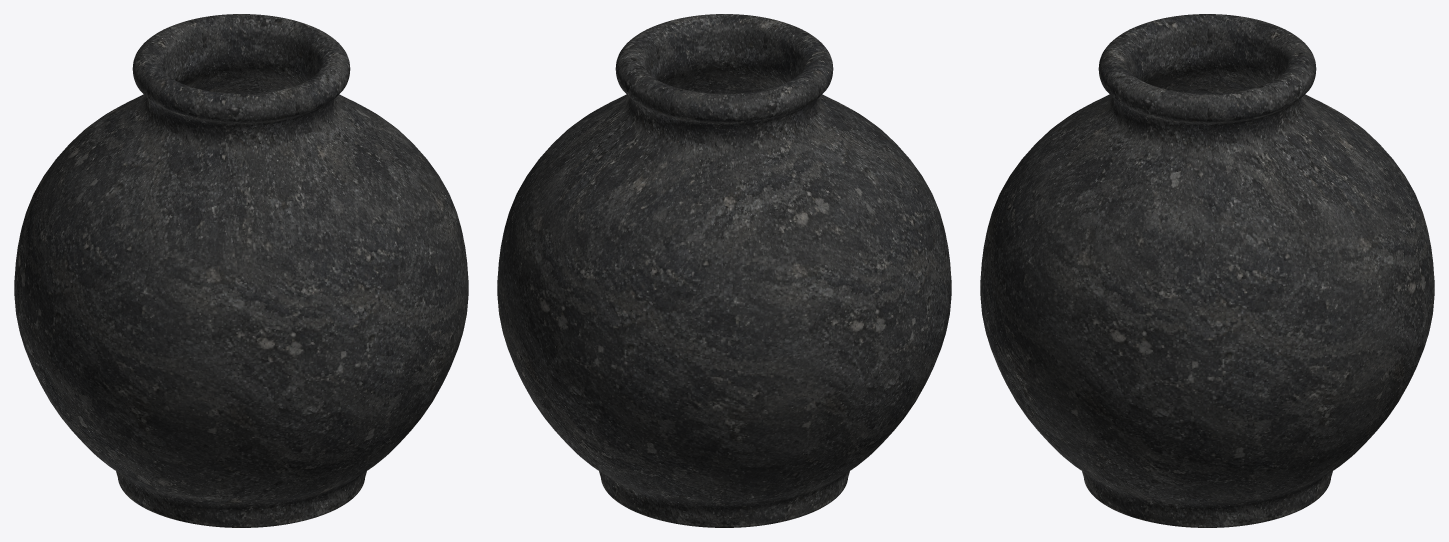
File: vase-large-black.glb
The picture shows the model from 3 angles, left to right: view 1: azimuth 30°, elevation 25°; view 2: azimuth 150°, elevation 25°; view 3: azimuth 270°, elevation 25°; orthographic projection.
Parts seen in each view (by area): view 1: vase-large-black; view 2: vase-large-black; view 3: vase-large-black.
Part boxes in pixels (x1=…): vase-large-black: x1=14, y1=14, x2=468, y2=527; vase-large-black: x1=497, y1=14, x2=951, y2=527; vase-large-black: x1=980, y1=14, x2=1434, y2=527.
Size of the model in its own units: 0.0322 by 0.033 by 0.0322.
Materials: 1 (1 with a texture image).
